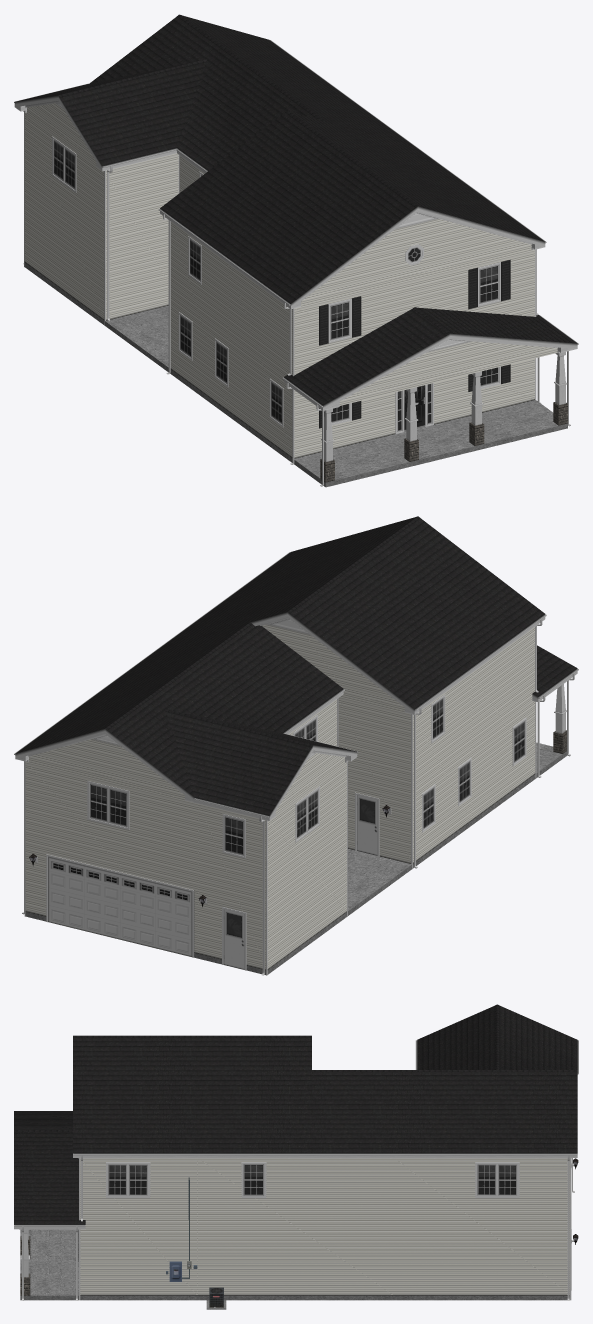
File: house14_mirror1.fbx
3 views of the same model, one above another, from view 1: azimuth 30°, elevation 25°; view 2: azimuth 150°, elevation 25°; view 3: azimuth 270°, elevation 25° (orthographic). The views are drawn at different scales.
Visible parts, largest first — view 1: house14_mirror1_LOD0; view 2: house14_mirror1_LOD0; view 3: house14_mirror1_LOD0.
Boxes of the visible parts, box(x1,y1,x2,y2) form: house14_mirror1_LOD0: box(14, 14, 578, 487); house14_mirror1_LOD0: box(14, 516, 578, 975); house14_mirror1_LOD0: box(14, 1004, 578, 1309).
Size of what is drawn, in the model's own units: 2.9 by 2.36 by 5.74.
